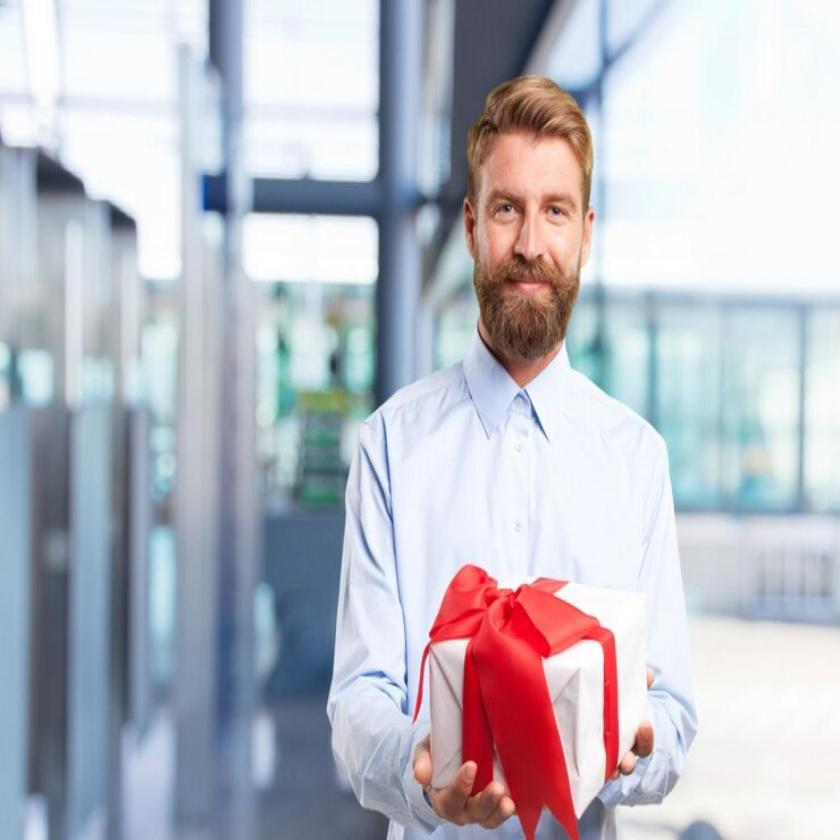Sin_casco: (459, 69, 602, 377)
